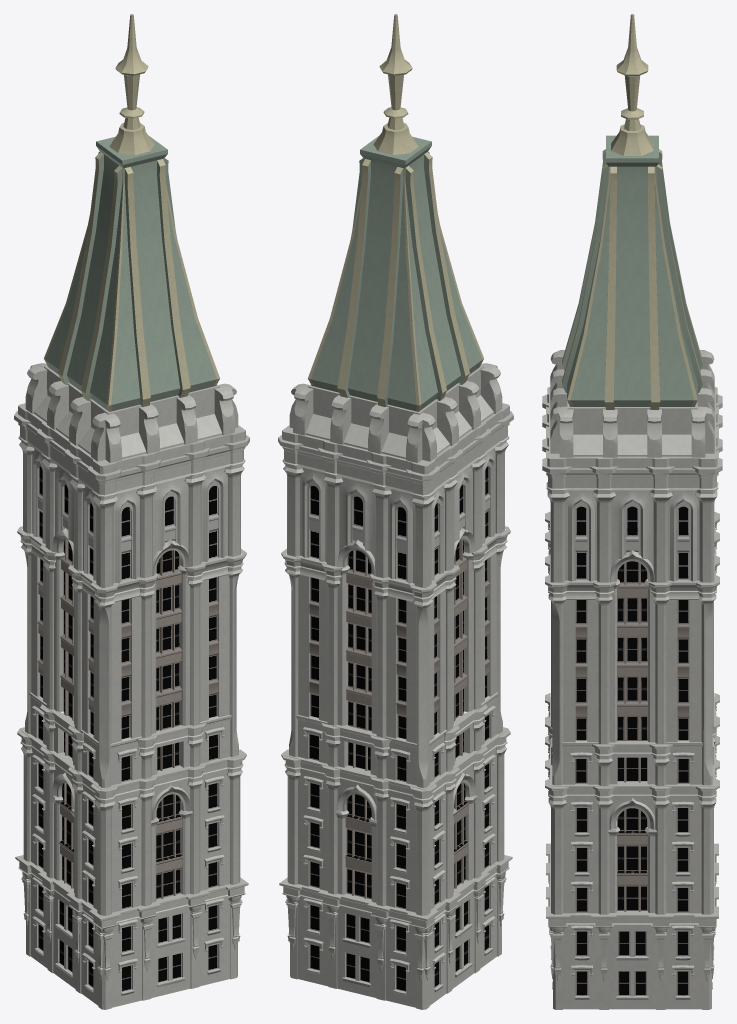
File: building_oracle_tower_01.glb
3 views of the same model, side by side, from view 1: azimuth 30°, elevation 25°; view 2: azimuth 150°, elevation 25°; view 3: azimuth 270°, elevation 25° (orthographic).
Parts seen in each view (by area): view 1: building_oracle_tower_01.building_oracle_tower_01, building_oracle_tower_01.building_oracle_tower_01_copy; view 2: building_oracle_tower_01.building_oracle_tower_01, building_oracle_tower_01.building_oracle_tower_01_copy; view 3: building_oracle_tower_01.building_oracle_tower_01, building_oracle_tower_01.building_oracle_tower_01_copy.
Boxes of the visible parts, x1,y1,x2,y2 form: building_oracle_tower_01.building_oracle_tower_01: [14, 14, 249, 1009]; building_oracle_tower_01.building_oracle_tower_01_copy: [38, 466, 218, 991]; building_oracle_tower_01.building_oracle_tower_01: [278, 14, 513, 1009]; building_oracle_tower_01.building_oracle_tower_01_copy: [309, 466, 489, 991]; building_oracle_tower_01.building_oracle_tower_01: [542, 14, 722, 1009]; building_oracle_tower_01.building_oracle_tower_01_copy: [575, 506, 689, 995].
Size of the model in its own units: 29.94 by 176 by 29.94.
2 materials, 2 textured.
